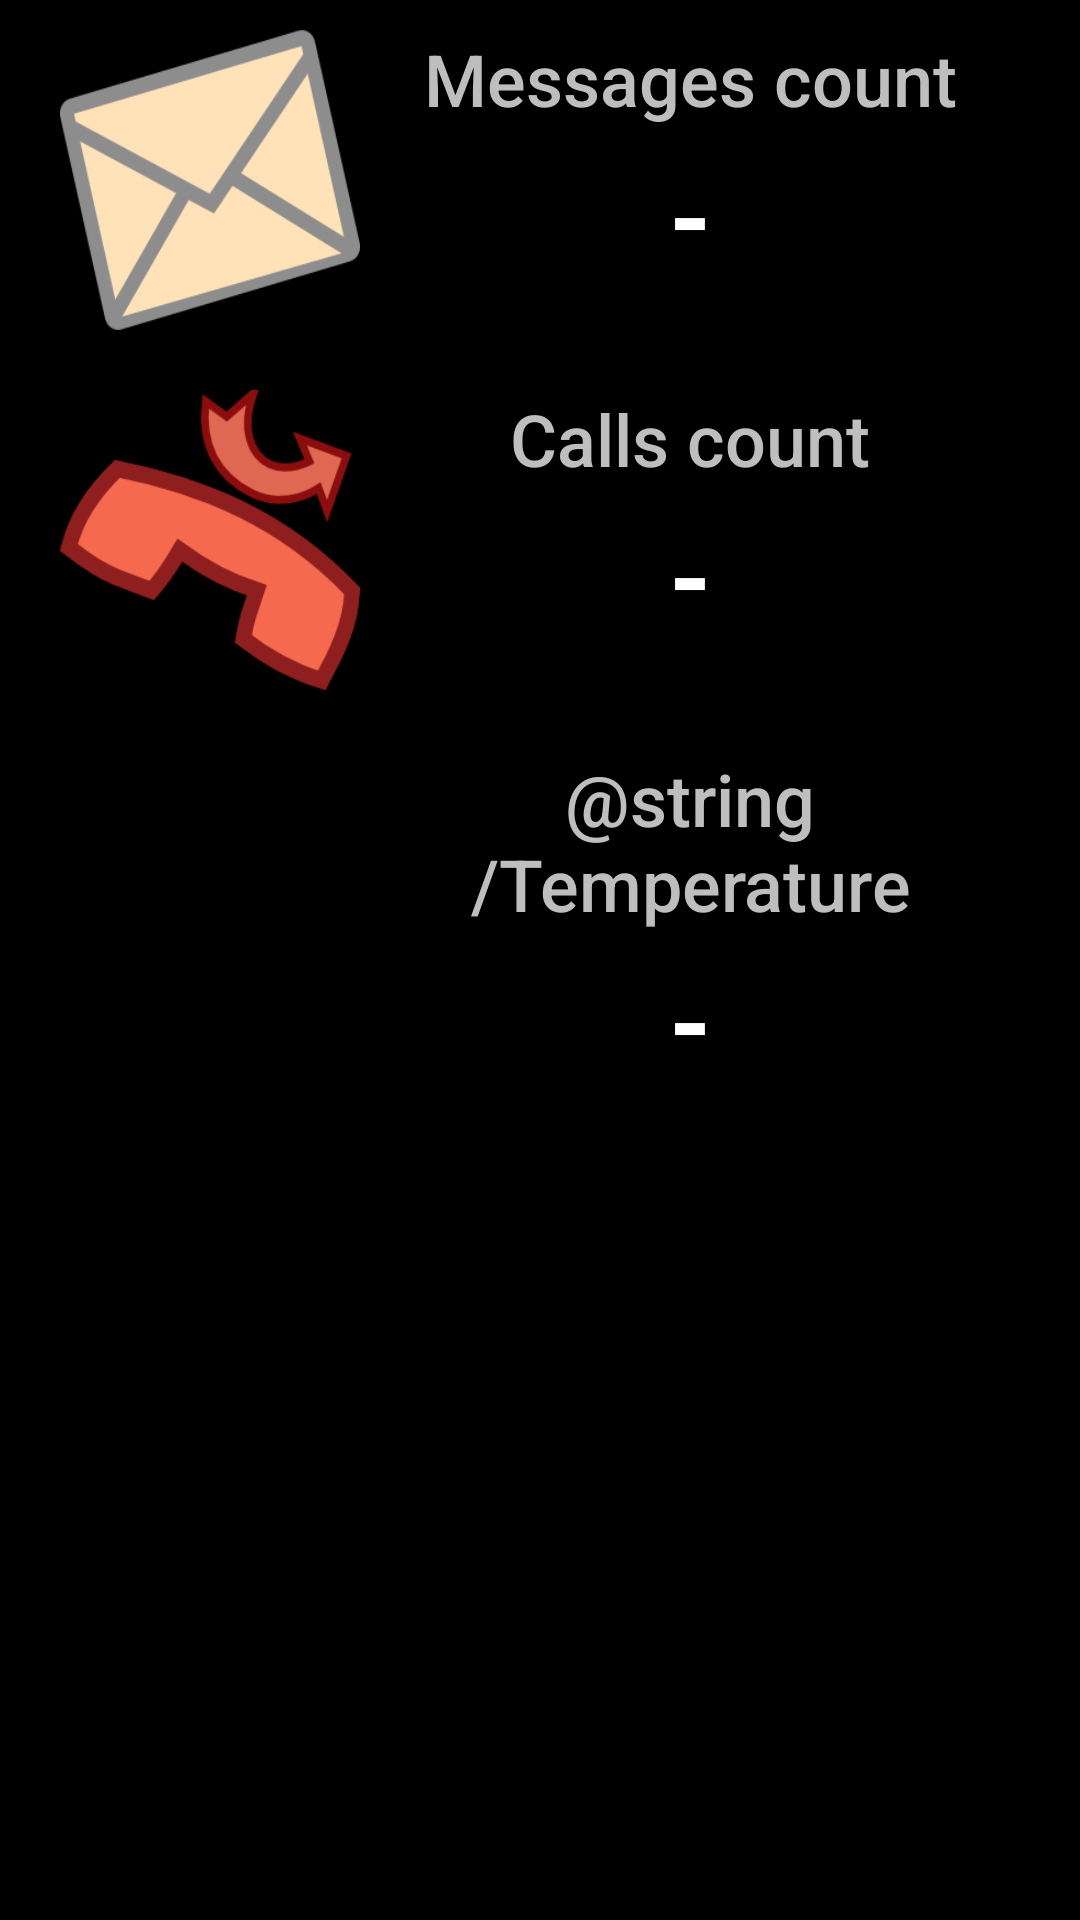

Where to tap for icons on this 1080×1920 app screen, as point (x, y):
missed calls: point (210, 540)
missed messages: point (210, 180)
